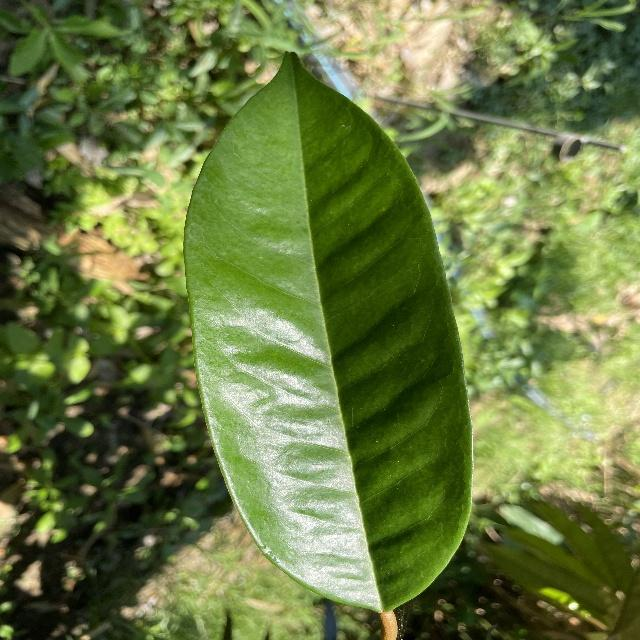No Disease: (175, 48, 477, 631)
